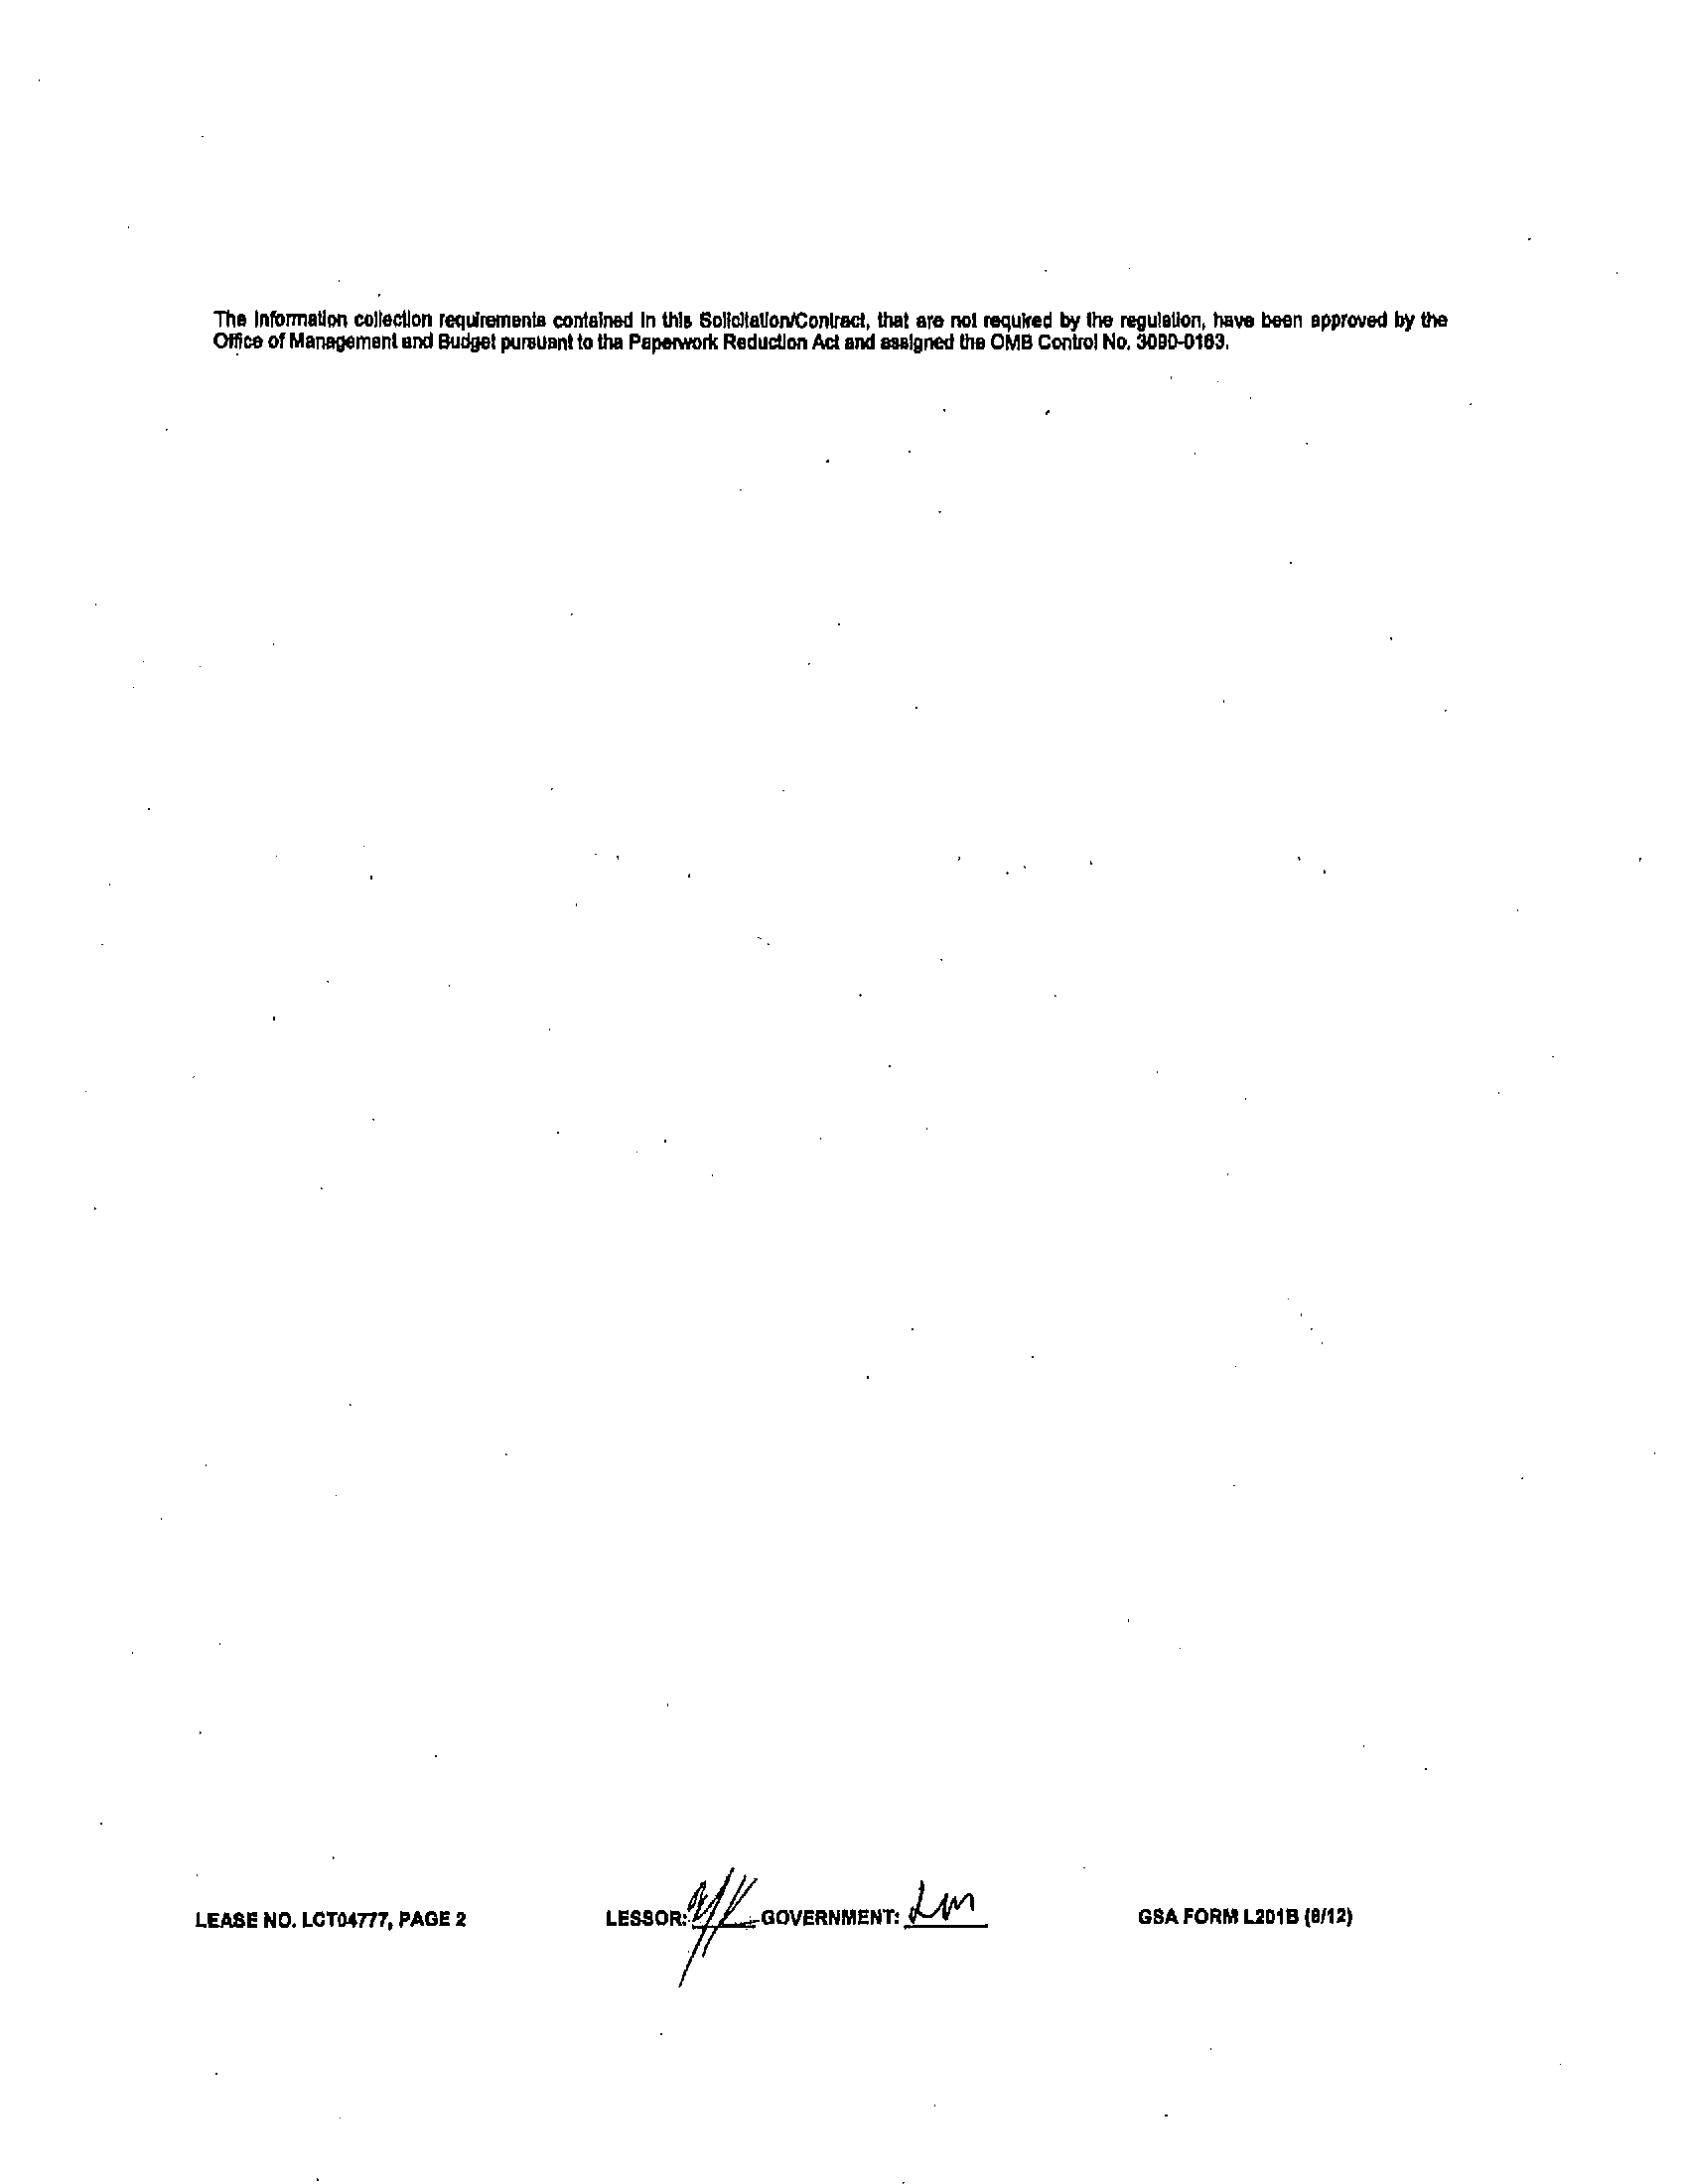handwritten: (679, 1860, 757, 1973), (904, 1860, 984, 1941)
